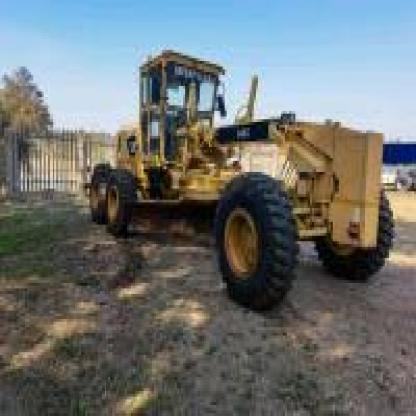bull_dozer/loader/grader: (83, 34, 391, 324)
